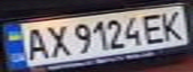1: (90, 17, 109, 52)
2: (106, 16, 127, 50)
4: (121, 12, 148, 47)
9: (69, 20, 93, 55)
A: (18, 25, 51, 62)
E: (139, 10, 172, 44)
K: (157, 7, 190, 42)
X: (42, 21, 72, 60)
